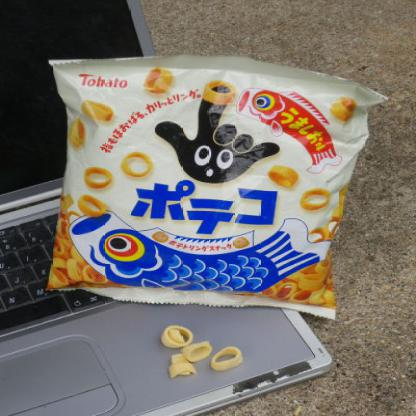potatochip: (43, 53, 396, 330)
